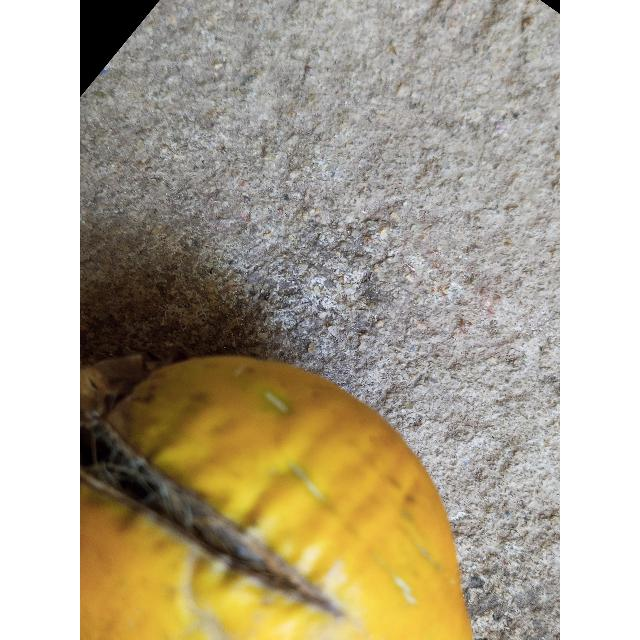damaged: (80, 355, 473, 640)
